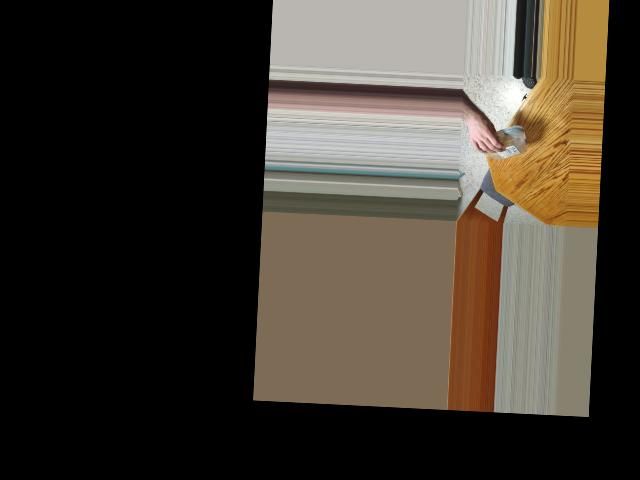cheese: (484, 126, 524, 161)
